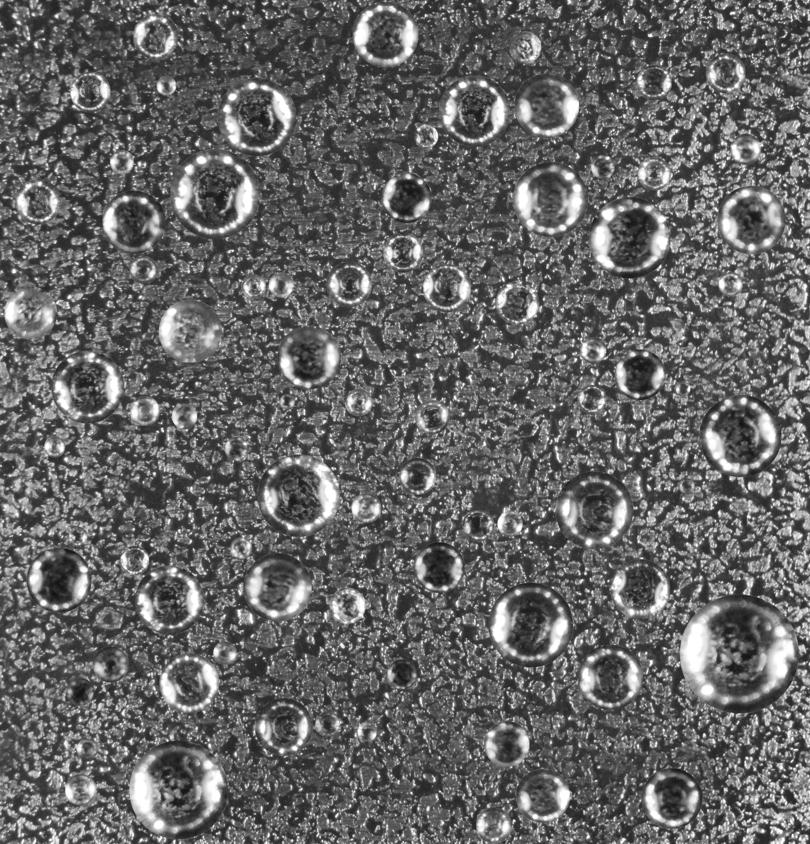Bubble: (680, 594, 798, 713), (129, 740, 227, 839), (170, 148, 260, 238), (488, 582, 573, 667), (257, 454, 339, 536), (699, 395, 781, 477), (589, 197, 670, 278), (217, 77, 296, 156), (555, 471, 633, 549), (513, 162, 588, 236), (51, 350, 123, 423), (439, 75, 510, 146), (135, 565, 203, 634), (717, 185, 785, 254), (243, 553, 311, 621), (352, 1, 418, 67), (26, 547, 91, 612), (514, 73, 579, 137), (578, 645, 643, 709), (277, 325, 340, 389), (158, 299, 221, 362), (102, 190, 165, 253), (641, 768, 702, 828), (159, 653, 218, 713), (610, 559, 670, 618), (254, 698, 312, 755), (516, 769, 569, 822), (4, 286, 56, 339), (614, 349, 665, 400), (414, 542, 464, 592), (381, 173, 431, 222), (423, 264, 471, 312), (326, 261, 371, 307), (133, 13, 178, 59), (484, 721, 529, 766), (15, 179, 60, 224), (495, 281, 539, 324), (70, 71, 110, 112), (383, 232, 423, 272), (706, 53, 745, 93), (399, 457, 436, 494), (92, 646, 128, 682), (329, 587, 365, 623), (476, 807, 511, 843), (636, 65, 671, 100), (415, 400, 449, 434), (637, 157, 670, 190), (509, 31, 541, 63), (462, 510, 494, 541), (65, 774, 96, 805), (730, 133, 761, 164), (387, 659, 417, 689), (351, 493, 381, 523), (120, 546, 149, 575), (130, 396, 159, 425), (577, 385, 606, 413), (129, 256, 157, 284), (345, 388, 372, 416), (66, 678, 93, 705), (580, 337, 606, 363), (171, 403, 197, 429), (268, 272, 293, 297), (497, 511, 522, 536), (414, 124, 438, 148), (241, 274, 265, 298), (718, 272, 742, 296), (315, 712, 339, 736), (224, 437, 248, 460), (213, 641, 236, 664), (591, 155, 614, 178), (110, 150, 133, 173), (44, 436, 65, 457), (76, 738, 97, 759), (230, 537, 251, 558), (156, 75, 176, 95), (68, 526, 87, 545), (357, 722, 376, 741), (674, 381, 690, 396), (279, 394, 294, 409), (679, 478, 694, 493)
